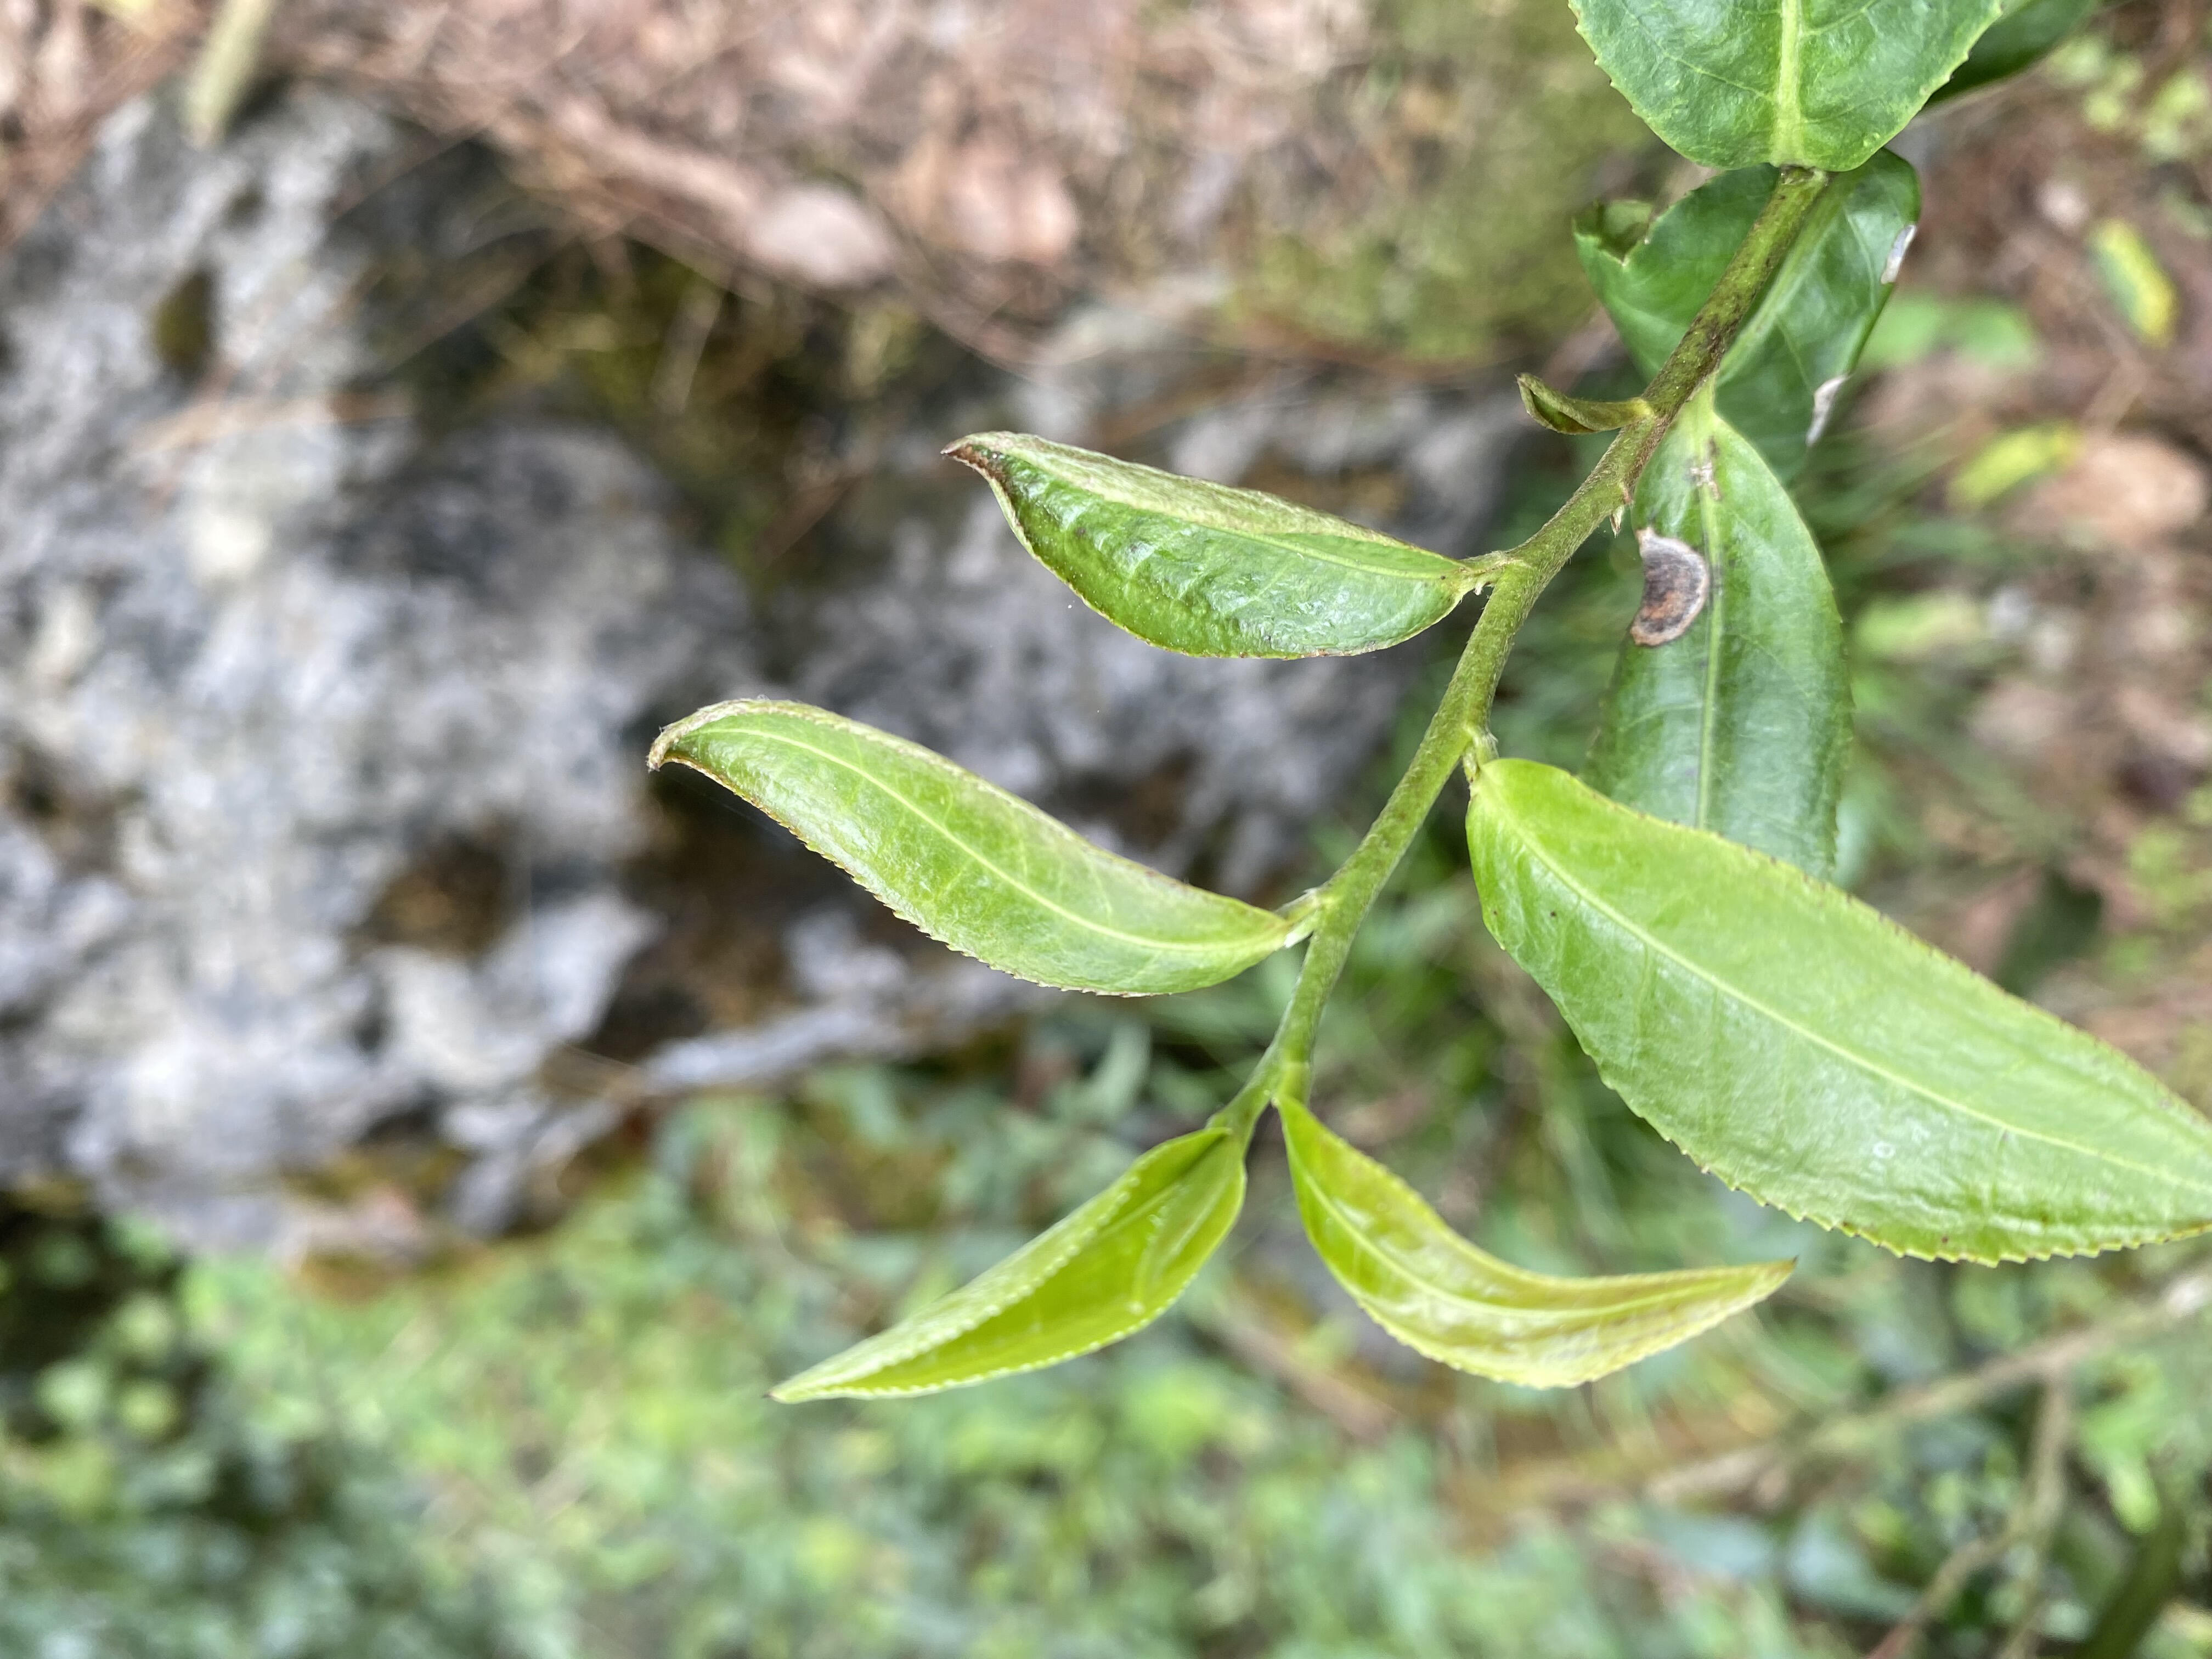healthy: (1463, 756, 2209, 1269), (1280, 1122, 1801, 1394), (765, 1124, 1251, 1398)
tanju_high: (1583, 422, 1855, 880)
tanju_low: (644, 695, 1284, 997), (939, 429, 1480, 666)
